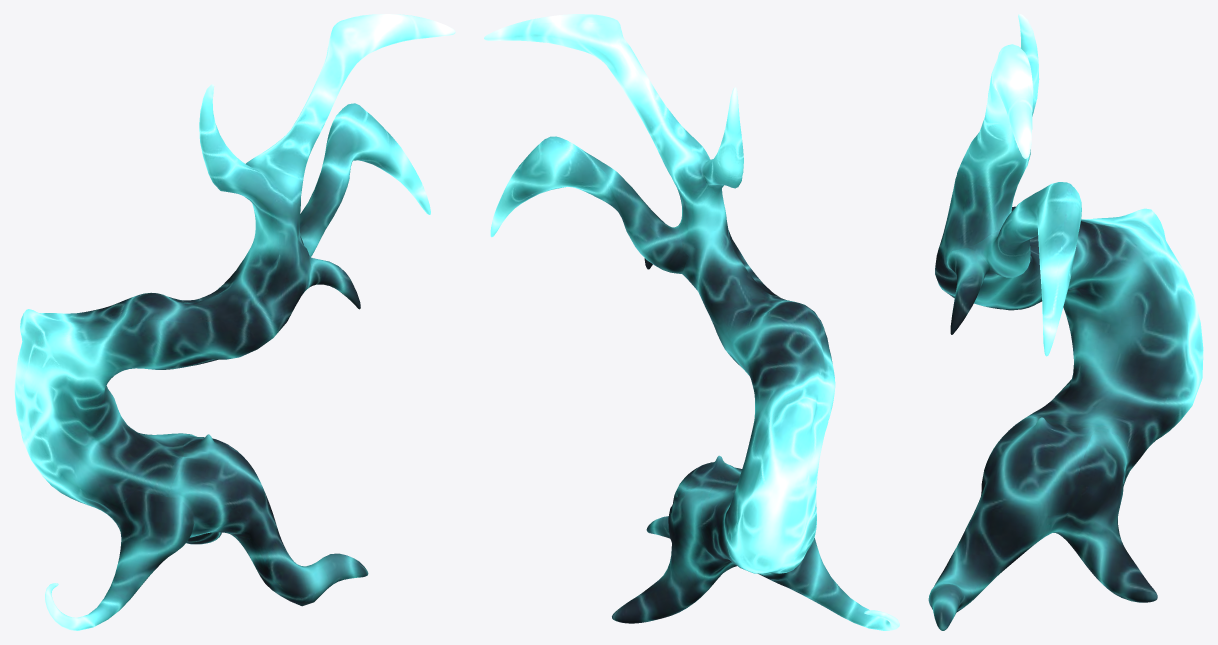
The model's file is caos_sts_clawplant_01b_soma_v36.glb.
The picture shows the model from 3 angles, left to right: view 1: azimuth 30°, elevation 25°; view 2: azimuth 150°, elevation 25°; view 3: azimuth 270°, elevation 25°; orthographic projection. The views are drawn at different scales.
Visible parts, largest first — view 1: caos_sts_clawplant_01b; view 2: caos_sts_clawplant_01b; view 3: caos_sts_clawplant_01b.
Part boxes in pixels (box(x1,y1,x2,y2)): caos_sts_clawplant_01b: box(14, 14, 455, 630); caos_sts_clawplant_01b: box(484, 14, 899, 630); caos_sts_clawplant_01b: box(928, 14, 1203, 630).
Size of the model in its own units: 4.63 by 5.92 by 2.43.
Materials: 1 (1 with a texture image).
